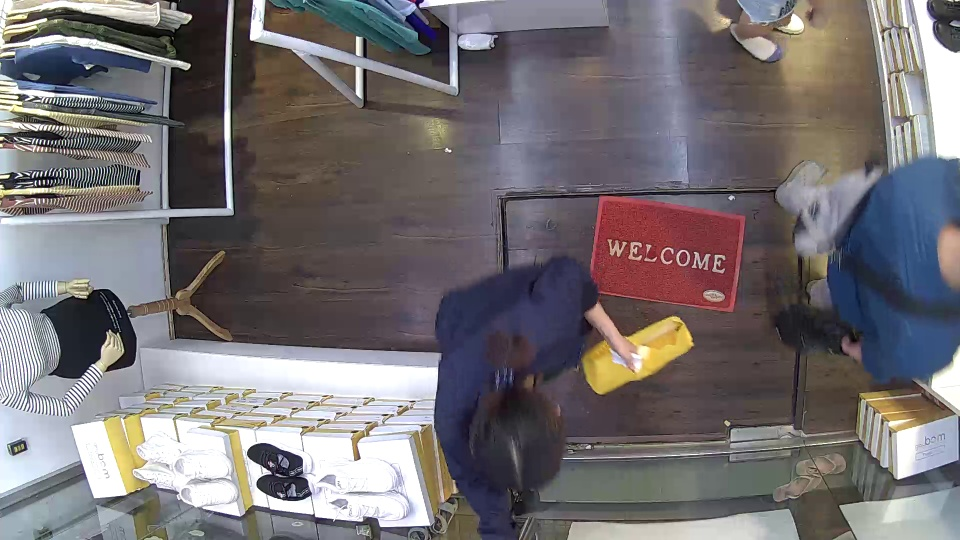topviewhead: (463, 384, 575, 512)
